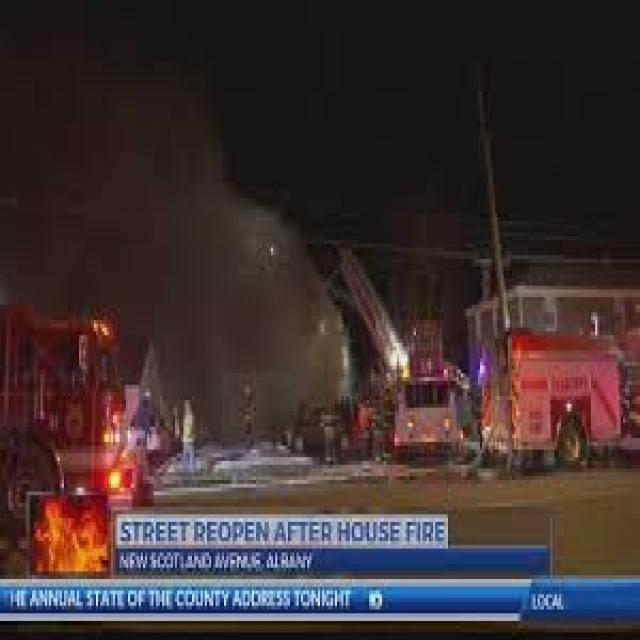Smoke: (1, 8, 352, 429)
